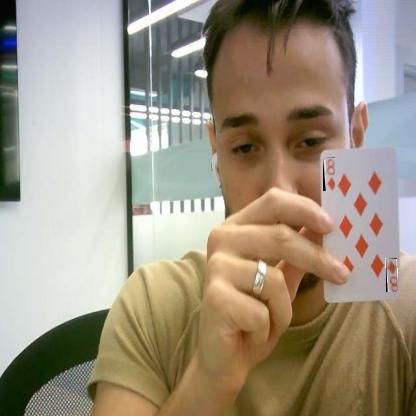8D: (323, 157, 335, 191), (386, 258, 397, 292)
